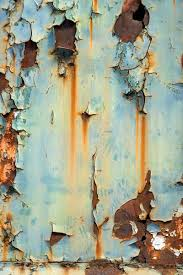rust: (109, 179, 157, 243), (108, 2, 152, 42), (1, 106, 19, 190), (50, 15, 79, 60), (135, 247, 183, 271), (83, 256, 122, 275), (19, 38, 40, 72), (1, 70, 11, 96)
